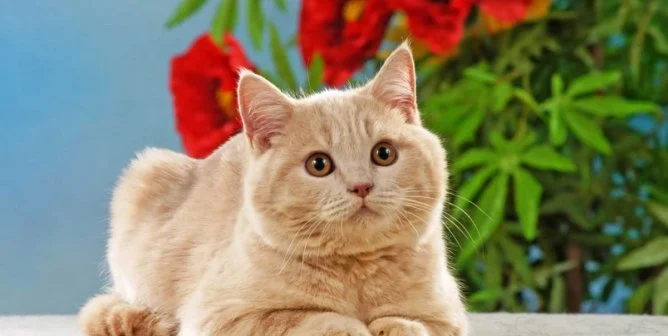cat: (86, 43, 478, 336)
